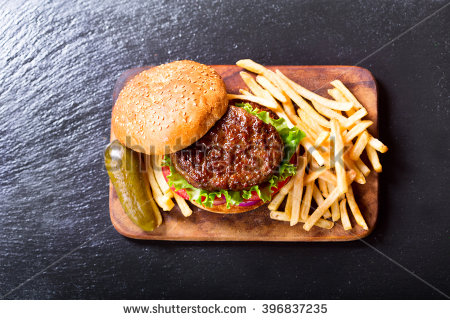hamburger: (112, 58, 292, 217)
